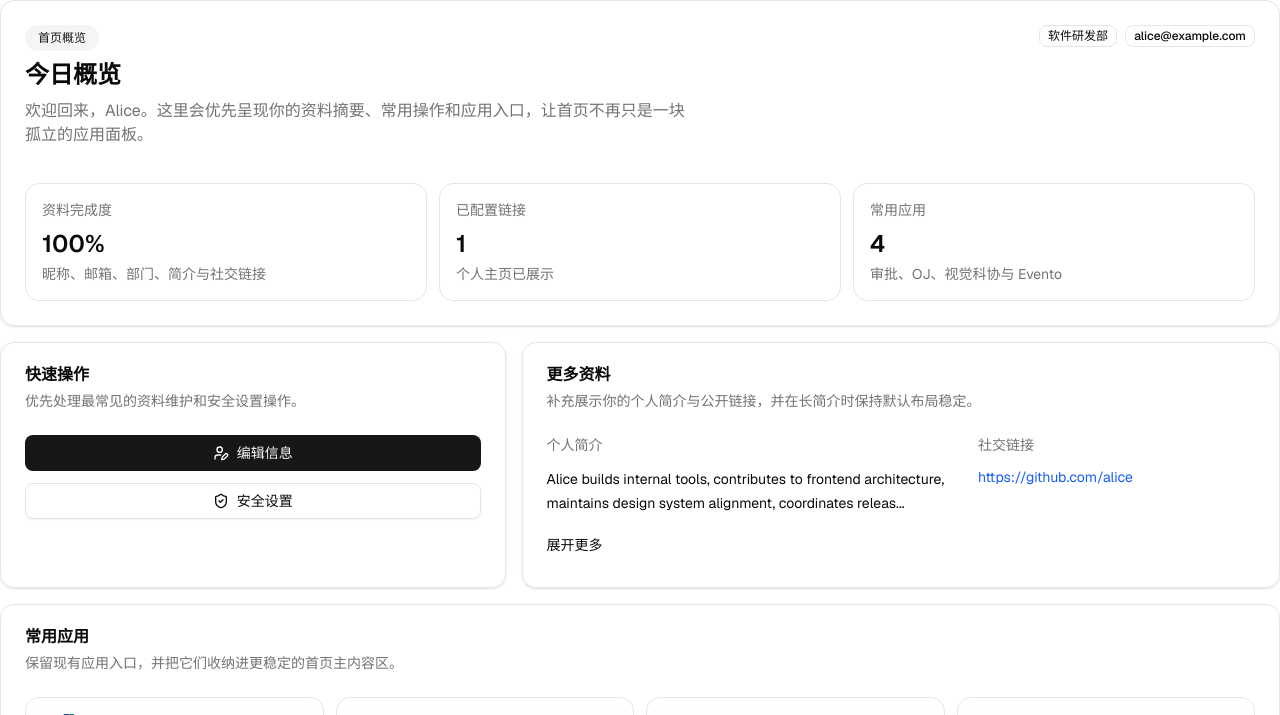
User homepage redesign › allows long biographies to expand without breaking the default layout
Click the button "展开更多" at (575, 545), box 547,527 -> 603,563
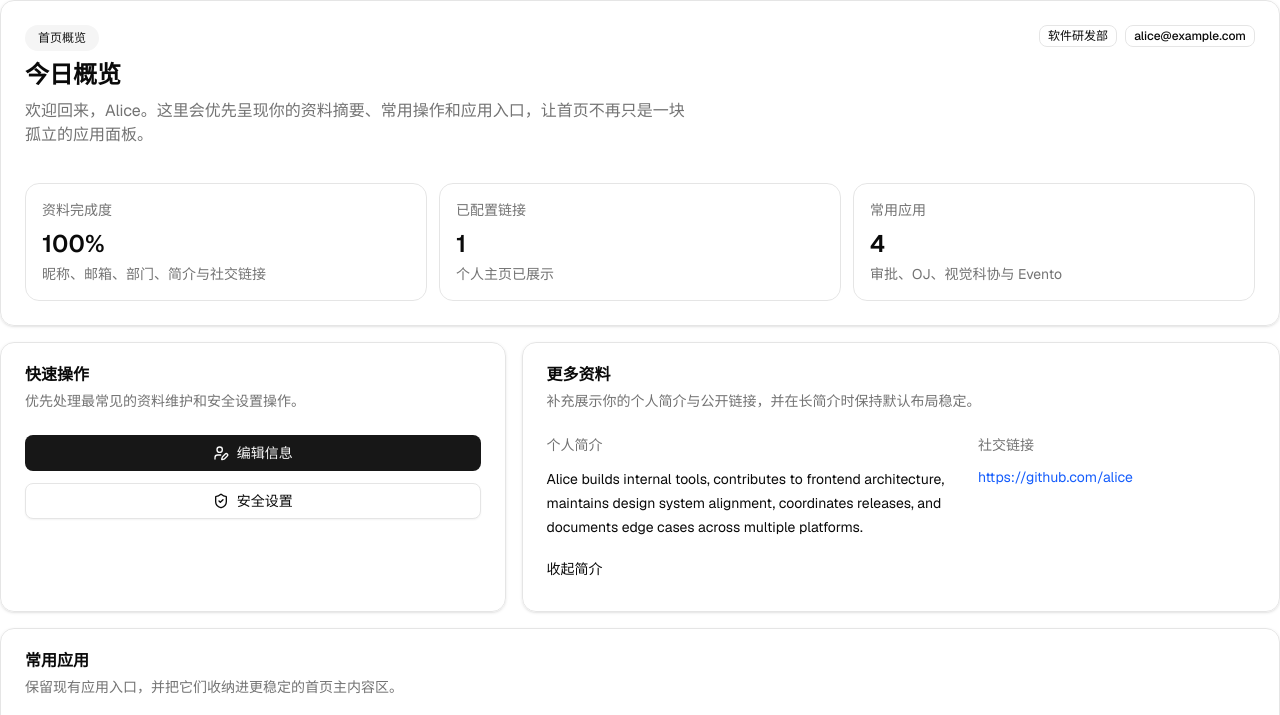
Check: the text "coordinates releases" is shown, box 547,470 -> 948,536
Check: the button "收起简介" is shown, box 547,551 -> 603,587
